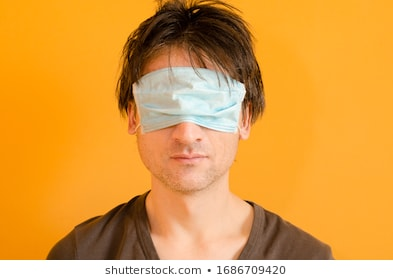mask_weared_incorrect: (136, 68, 245, 194)
